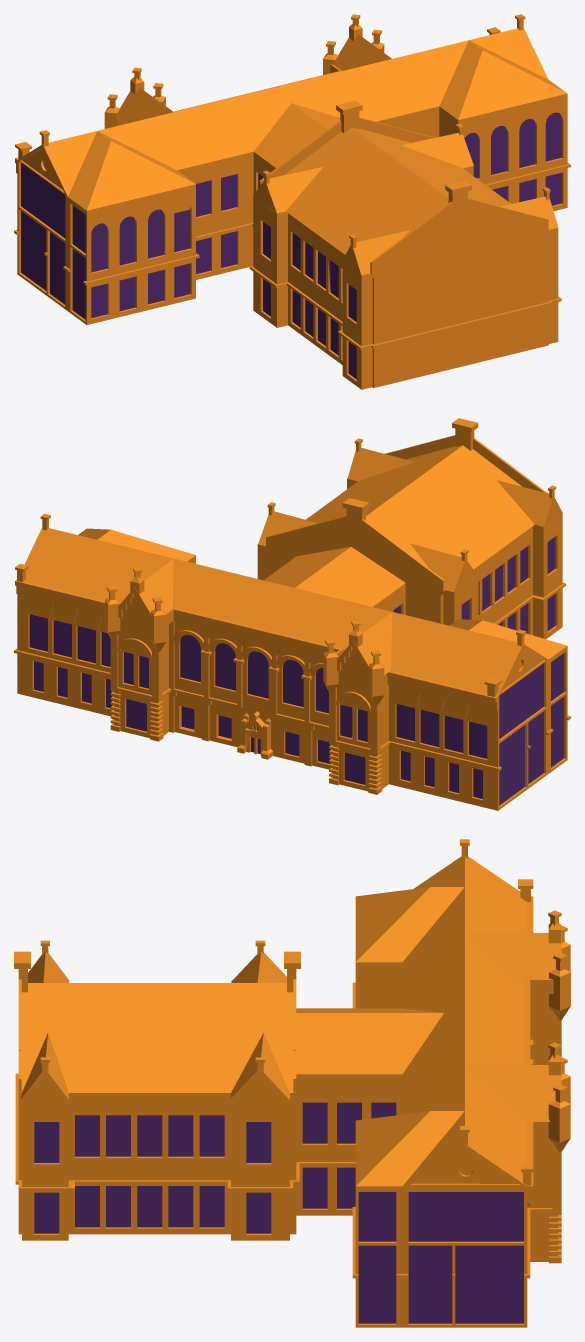
Rendered from Samochodówka_cz2.fbx.
3 views of the same model, one above another, from view 1: azimuth 30°, elevation 25°; view 2: azimuth 150°, elevation 25°; view 3: azimuth 270°, elevation 25° (orthographic). The views are drawn at different scales.
Parts seen in each view (by area): view 1: samochodowka_cz2; view 2: samochodowka_cz2; view 3: samochodowka_cz2.
Part boxes in pixels (x1=…): samochodowka_cz2: x1=14, y1=14, x2=570, y2=389; samochodowka_cz2: x1=14, y1=418, x2=570, y2=810; samochodowka_cz2: x1=14, y1=839, x2=570, y2=1327.
Size of the model in its own units: 39.88 by 14.19 by 32.07.
Materials: 1 (1 with a texture image).
